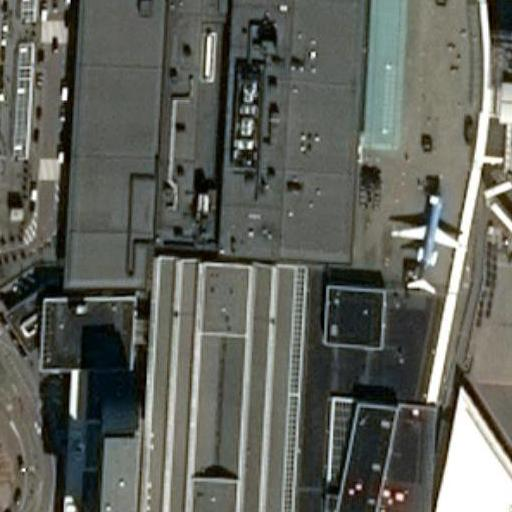Aircraft: (386, 185, 460, 293), (498, 0, 512, 7)
